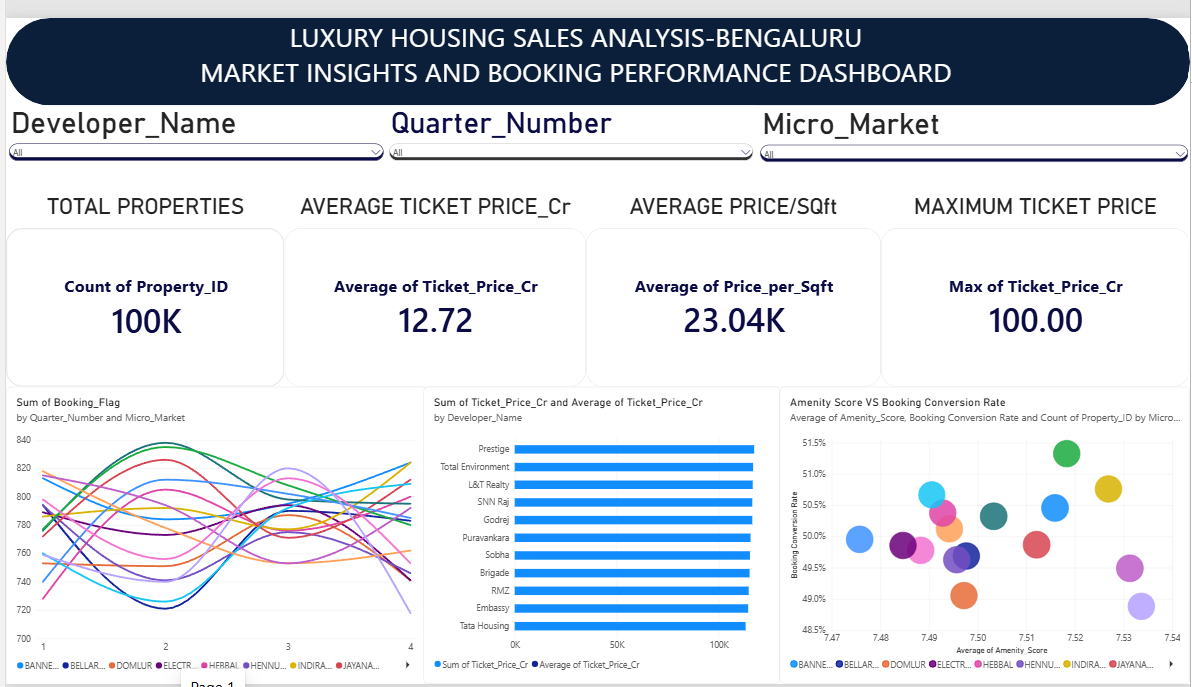

What the dashboard file says about the page in this screenshot:
{"tool":"powerbi","page":{"name":"Page 1","canvas":[1920,1080],"ordinal":0},"visuals":[{"type":"cardVisual","title":"TOTAL PROPERTIES","fields":{"Data":["CountNonNull(Luxury_Housing_Details_BLR_Final_new.Property_ID)"]},"box":[0,283.6,451.7,314],"z":0},{"type":"cardVisual","title":"AVERAGE TICKET PRICE_Cr","fields":{"Data":["Avg(Luxury_Housing_Details_BLR_Final_new.Ticket_Price_Cr)"]},"box":[451.7,283.6,488.2,314],"z":1000},{"type":"cardVisual","title":"AVERAGE PRICE/SQft","fields":{"Data":["Avg(Luxury_Housing_Details_BLR_Final_new.Price_per_Sqft)"]},"box":[939.9,283.6,478.1,314],"z":2000},{"type":"cardVisual","title":"MAXIMUM TICKET PRICE","fields":{"Data":["Max(Luxury_Housing_Details_BLR_Final_new.Ticket_Price_Cr)"]},"box":[1418,283.6,500.4,314],"z":3000},{"type":"lineChart","fields":{"Category":["Luxury_Housing_Details_BLR_Final_new.Quarter_Number"],"Y":["Sum(Luxury_Housing_Details_BLR_Final_new.Booking_Flag)"],"Series":["Luxury_Housing_Details_BLR_Final_new.Micro_Market"]},"box":[0,598.3,682.6,483.2],"z":4000},{"type":"barChart","fields":{"Category":["Luxury_Housing_Details_BLR_Final_new.Developer_Name"],"Y":["Sum(Luxury_Housing_Details_BLR_Final_new.Ticket_Price_Cr)","Avg(Luxury_Housing_Details_BLR_Final_new.Ticket_Price_Cr)"]},"box":[676.5,598.3,577.8,481.1],"z":5000},{"type":"scatterChart","title":"Amenity Score VS Booking Conversion Rate","fields":{"X":["Avg(Luxury_Housing_Details_BLR_Final_new.Amenity_Score)"],"Size":["CountNonNull(Luxury_Housing_Details_BLR_Final_new.Property_ID)"],"Series":["Luxury_Housing_Details_BLR_Final_new.Micro_Market"],"Y":["Luxury_Housing_Details_BLR_Final_new.Booking Conversion Rate"]},"box":[1254.2,598.3,666.2,481.1],"z":6000},{"type":"shape","box":[0,0,1920.4,141.9],"z":7000},{"type":"textbox","box":[0,0,1847.5,77],"z":8000},{"type":"textbox","box":[0,56.7,1847.5,85.1],"z":9000},{"type":"slicer","fields":{"Values":["Luxury_Housing_Details_BLR_Final_new.Developer_Name"]},"box":[0,141.9,616.8,141.9],"z":10000},{"type":"slicer","fields":{"Values":["Luxury_Housing_Details_BLR_Final_new.Quarter_Number"]},"box":[616.8,141.9,600.4,141.9],"z":11000},{"type":"slicer","fields":{"Values":["Luxury_Housing_Details_BLR_Final_new.Micro_Market"]},"box":[1217.2,143.9,703.2,139.8],"z":12000}]}

Visuals, with their boxes in screenshot pixels (x1, y1, x2, y2), scaled from the page's 1920x1080 canvas onto the 1192x687 screenshot:
"TOTAL PROPERTIES" cardVisual: 0, 180, 280, 380
"AVERAGE TICKET PRICE_Cr" cardVisual: 280, 180, 584, 380
"AVERAGE PRICE/SQft" cardVisual: 584, 180, 880, 380
"MAXIMUM TICKET PRICE" cardVisual: 880, 180, 1191, 380
lineChart - Luxury_Housing_Details_BLR_Final_new.Quarter_Number x Sum(Luxury_Housing_Details_BLR_Final_new.Booking_Flag): 0, 381, 424, 686
barChart - Luxury_Housing_Details_BLR_Final_new.Developer_Name x Sum(Luxury_Housing_Details_BLR_Final_new.Ticket_Price_Cr): 420, 381, 779, 686
"Amenity Score VS Booking Conversion Rate" scatterChart: 779, 381, 1191, 686
shape: 0, 0, 1191, 90
textbox: 0, 0, 1147, 49
textbox: 0, 36, 1147, 90
slicer - Luxury_Housing_Details_BLR_Final_new.Developer_Name: 0, 90, 383, 181
slicer - Luxury_Housing_Details_BLR_Final_new.Quarter_Number: 383, 90, 756, 181
slicer - Luxury_Housing_Details_BLR_Final_new.Micro_Market: 756, 92, 1191, 180
